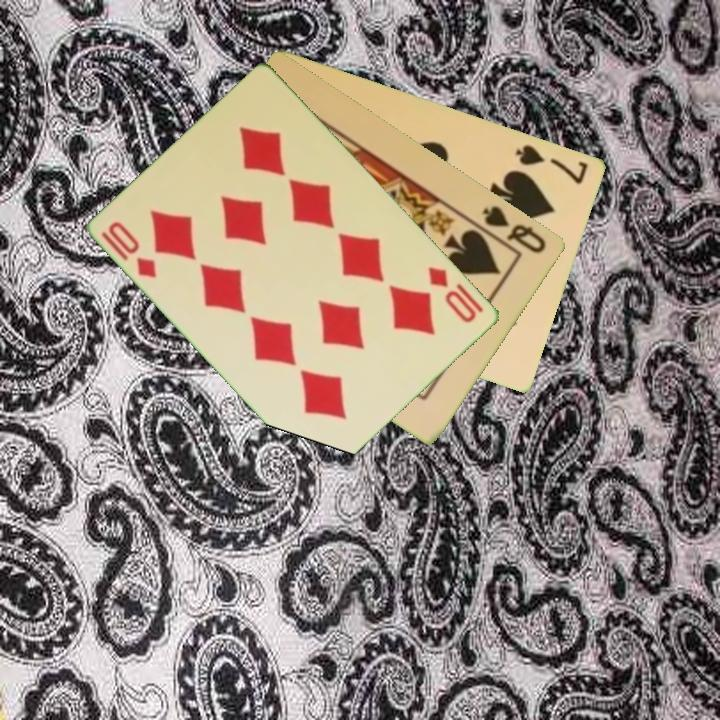10d: (98, 217, 160, 281), (425, 263, 480, 326)
7s: (512, 140, 592, 187)
Qs: (479, 202, 550, 257)
